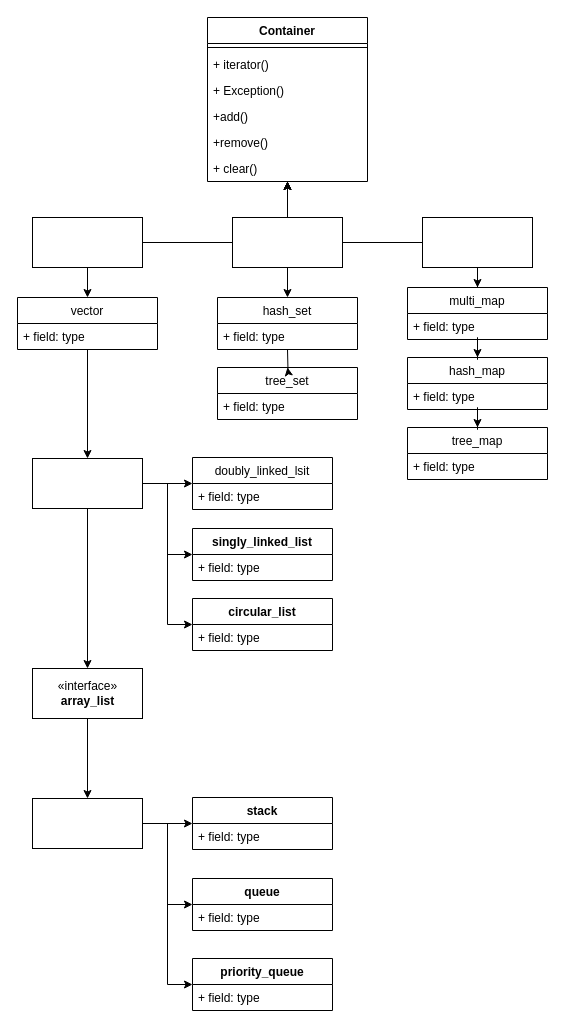
Some shapes in this 565 by 1031 pixel diagram are drawn without their labels. Each missing label, with the centre of its shape:
"«interface» deque" belongs at [87,823].
"«interface» linked_list" belongs at [87,483].
"«interface» List" belongs at [87,242].
"«interface» Map" belongs at [477,242].
"«interface» Set" belongs at [287,242].
